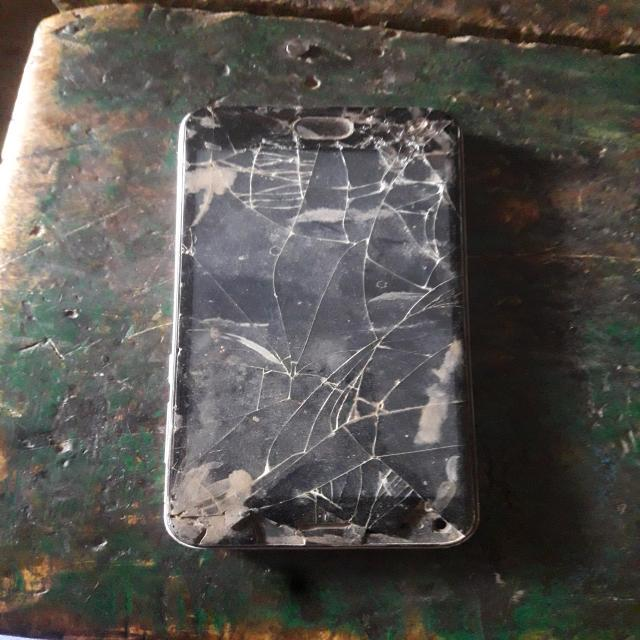screen crack: (155, 95, 482, 540)
